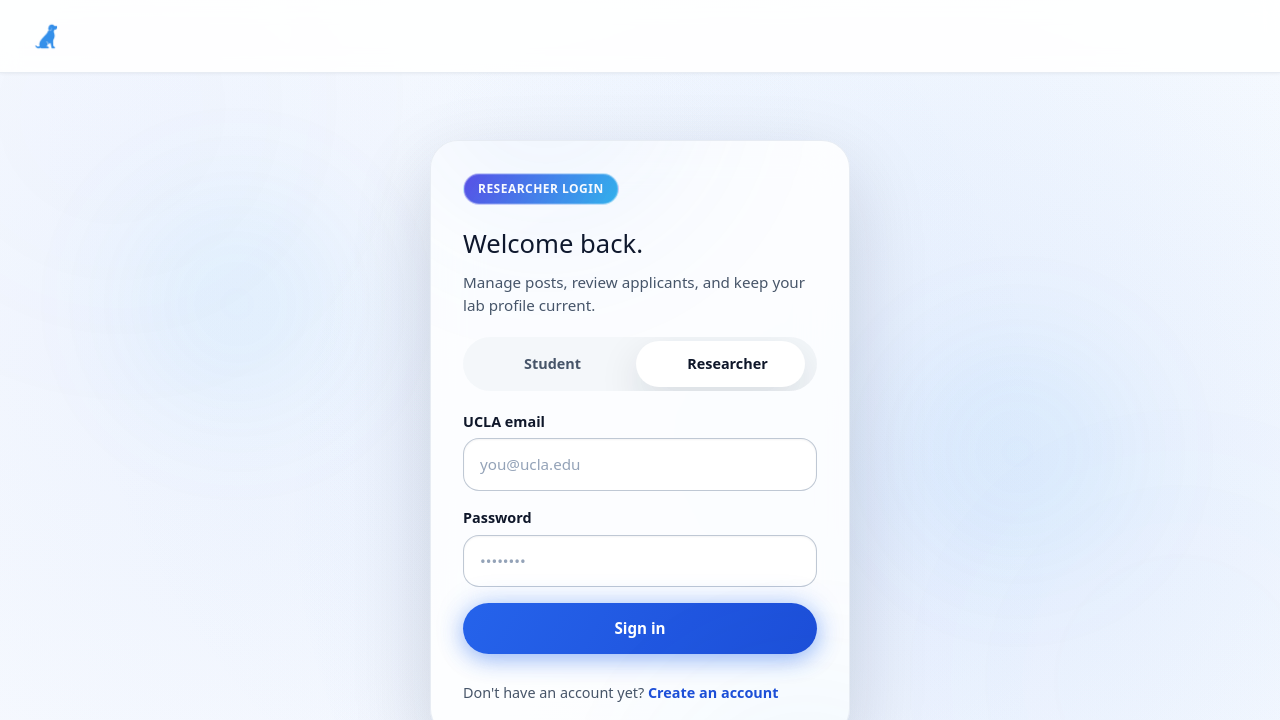
Test: Functionality Tests › Authentication - Login › should toggle between researcher and student on login
The width and height of the screenshot is (1280, 720).
Click the link "Student" at (553, 364), box x1=524 y1=354 x2=581 y2=373
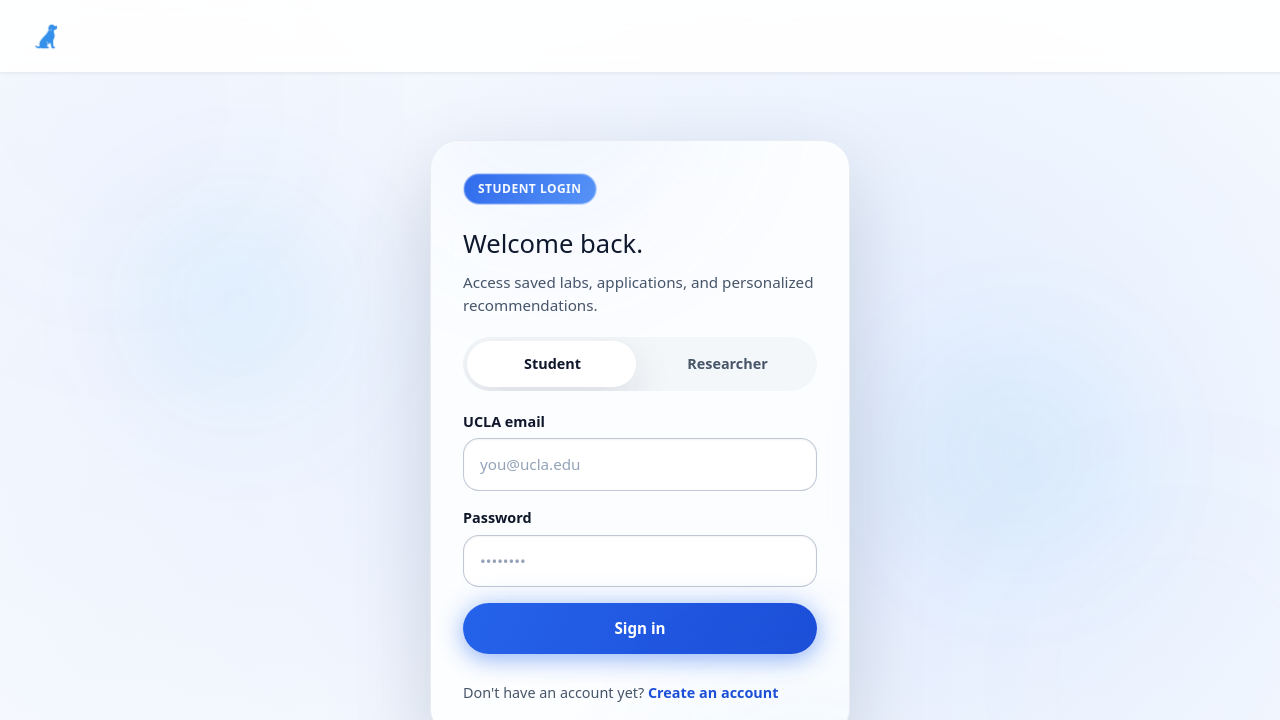
expect the text "Student login" is shown: met, box x1=463 y1=173 x2=596 y2=205
